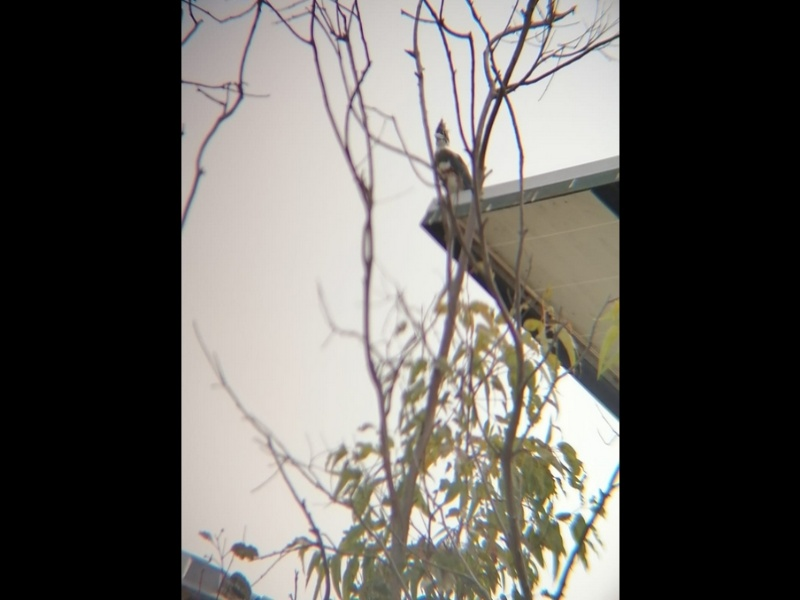kingfisher: (425, 118, 476, 200)
